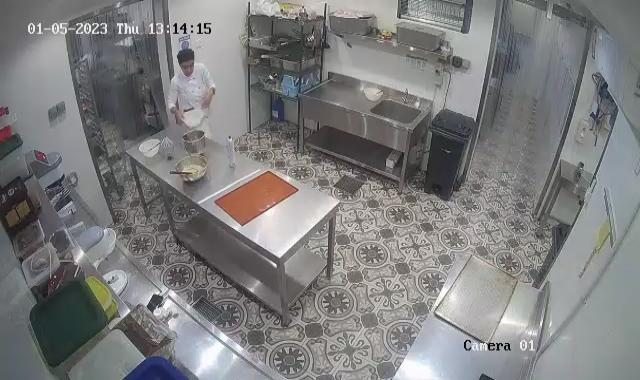no_hairnet: (173, 46, 198, 67)
